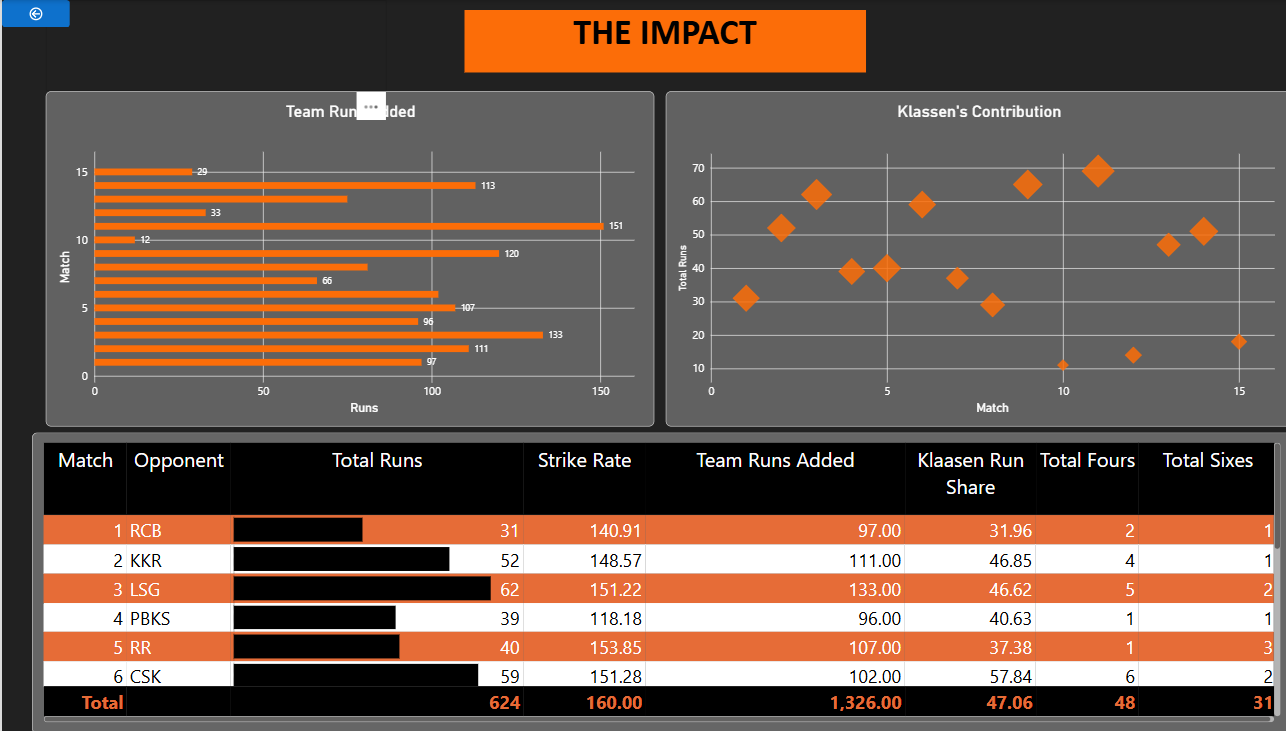

This screenshot's page, from the dashboard's own definition file:
{"tool":"powerbi","page":{"name":"THE IMPACT","canvas":[1920,1080],"ordinal":3},"visuals":[{"type":"clusteredBarChart","title":"Team Runs Added","fields":{"Category":["Matches.Match"],"Y":["Match_batting1.Team Runs Added"]},"box":[64.4,134.4,896.3,493.3],"z":0},{"type":"textbox","box":[64.4,0,502.5,134.4],"z":1000},{"type":"textbox","box":[681,14.7,590.8,92],"z":2000},{"type":"scatterChart","title":"Klassen''s Contribution","fields":{"Size":["Match_batting1.Team Runs Added"],"X":["Matches.Match"],"Y":["Measures_Table.Total Runs"]},"box":[977.3,134.4,922.1,493.3],"z":3000},{"type":"tableEx","fields":{"Values":["Matches.Match","Matches.Opponent","Measures_Table.Total Runs","Measures_Table.Strike Rate","Match_batting1.Team Runs Added","Match_batting1.Klaasen Run Share","Measures_Table.Total Fours","Measures_Table.Total Sixes"]},"box":[44.2,636.8,1855.2,443.6],"z":4000},{"type":"actionButton","box":[0,0,100,40],"z":5000}]}

Visuals, with their boxes in screenshot pixels (x1, y1, x2, y2), scaled from the page's 1920x1080 canvas onto the 1286x731 screenshot:
"Team Runs Added" clusteredBarChart: [x1=43, y1=91, x2=643, y2=425]
textbox: [x1=43, y1=0, x2=380, y2=91]
textbox: [x1=456, y1=10, x2=852, y2=72]
"Klassen''s Contribution" scatterChart: [x1=655, y1=91, x2=1272, y2=425]
tableEx - Matches.Match x Matches.Opponent: [x1=30, y1=431, x2=1272, y2=730]
actionButton: [x1=0, y1=0, x2=67, y2=27]
